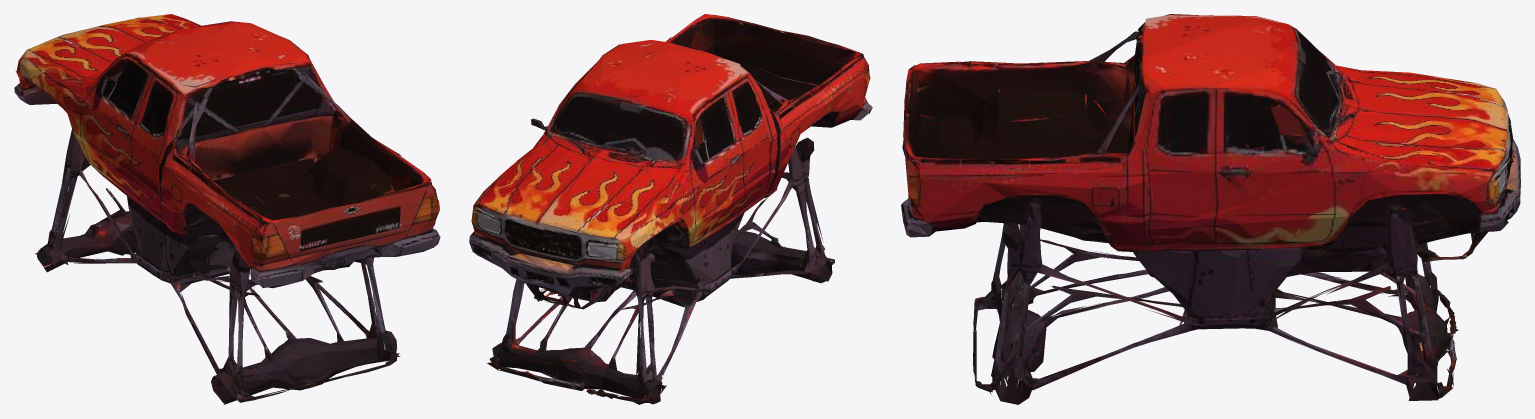
Rendered from monster_body.glb.
3 renders of one model, left to right at view 1: azimuth 30°, elevation 25°; view 2: azimuth 150°, elevation 25°; view 3: azimuth 270°, elevation 25°, orthographic. The views are drawn at different scales.
Visible parts, largest first — view 1: geometry_0; view 2: geometry_0; view 3: geometry_0.
Part boxes in pixels (bbox=[...]): geometry_0: bbox=[14, 14, 440, 404]; geometry_0: bbox=[469, 14, 872, 404]; geometry_0: bbox=[901, 14, 1520, 404].
Bounding box in the file's own units: 0.4031 × 0.5785 × 0.9983.
1 material, 1 textured.
